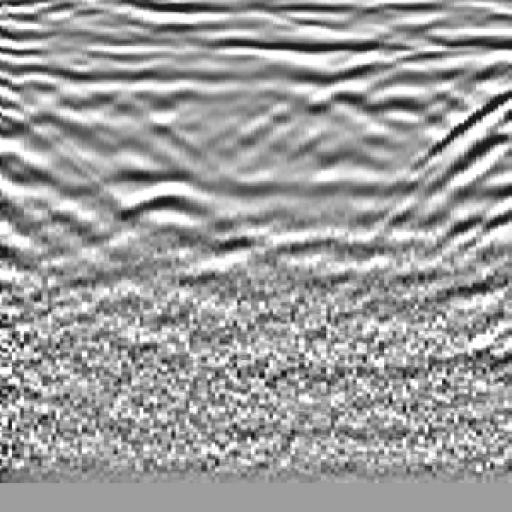metalic: (105, 40, 280, 305), (380, 46, 512, 286)
